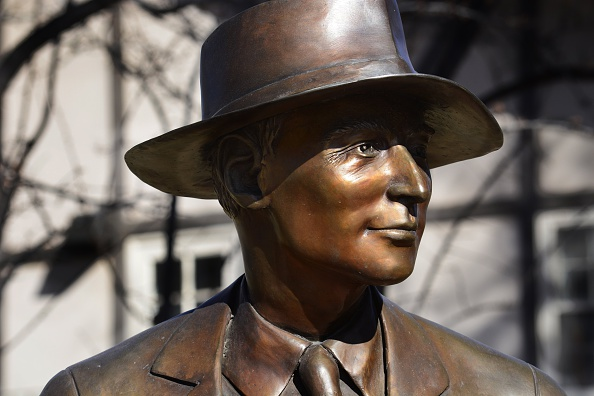em pe: (81, 29, 556, 396)
